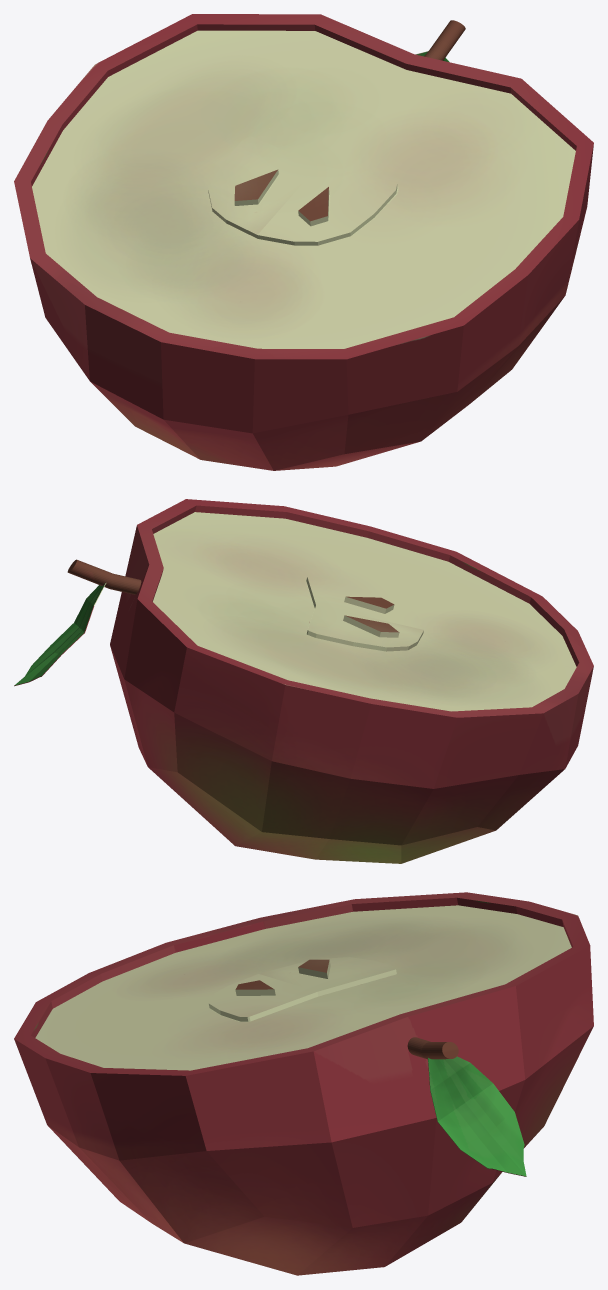
The model's file is apple.fbx.
The picture shows the model from 3 angles, top to bottom: view 1: azimuth 30°, elevation 25°; view 2: azimuth 150°, elevation 25°; view 3: azimuth 270°, elevation 25°; orthographic projection. The views are drawn at different scales.
Visible parts, largest first — view 1: apple; view 2: apple; view 3: apple.
Part boxes in pixels (bbox=[...]): apple: bbox=[14, 14, 593, 470]; apple: bbox=[14, 499, 593, 863]; apple: bbox=[14, 892, 593, 1275].
Size of the model in its own units: 13.34 by 7.98 by 13.21.
